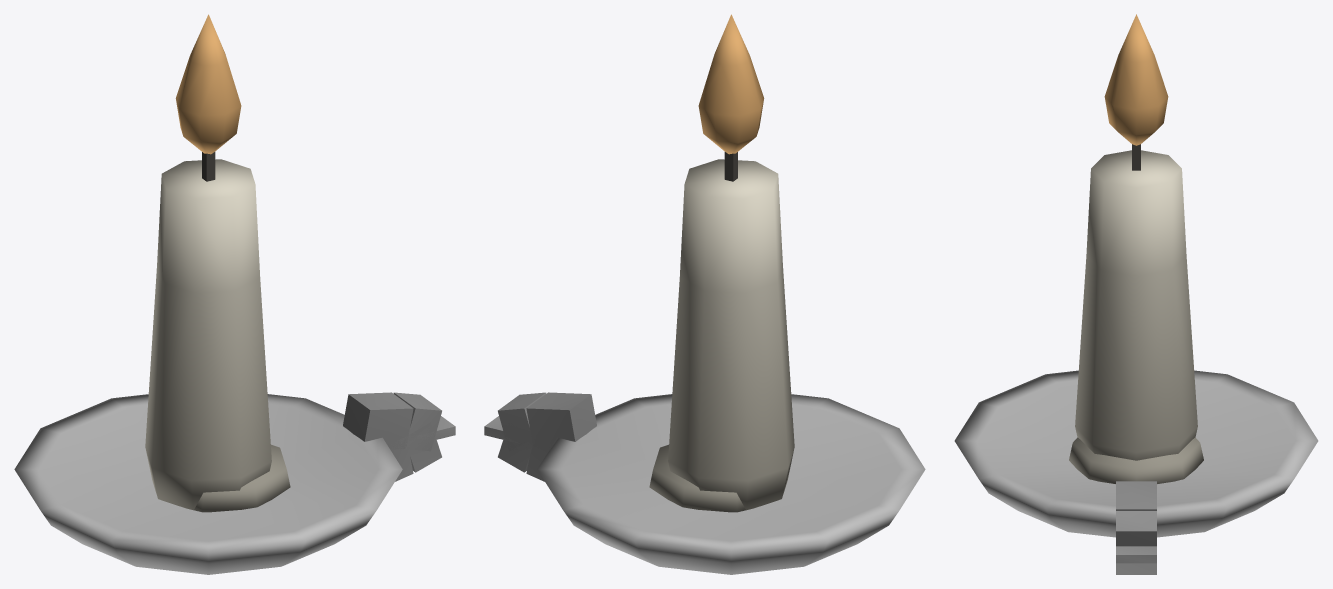
Rendered from candle.glb.
The picture shows the model from 3 angles, left to right: view 1: azimuth 30°, elevation 25°; view 2: azimuth 150°, elevation 25°; view 3: azimuth 270°, elevation 25°; orthographic projection. The views are drawn at different scales.
Parts seen in each view (by area): view 1: candle; view 2: candle; view 3: candle.
Part boxes in pixels (x1,y1,x2,y2): candle: (14,14,455,574); candle: (484,14,925,574); candle: (954,14,1318,574).
Size of the model in its own units: 0.1923 by 0.2308 by 0.16.
